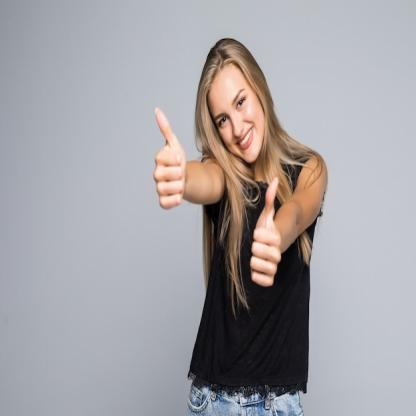thumb_up: (146, 104, 194, 216), (248, 170, 286, 293)
